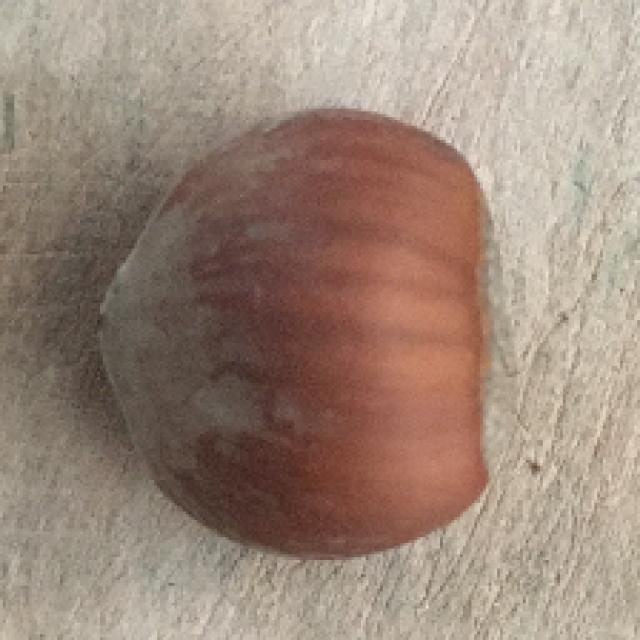qualityHazelnut: (92, 103, 521, 562)
